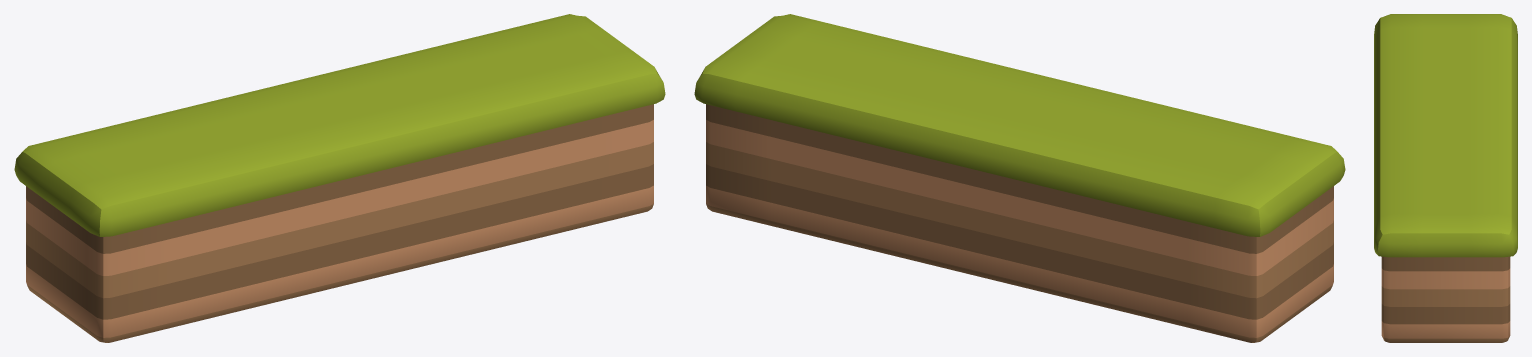
Rendered from Cube_Grass_1x1End.fbx.
3 renders of one model, left to right at view 1: azimuth 30°, elevation 25°; view 2: azimuth 150°, elevation 25°; view 3: azimuth 270°, elevation 25°, orthographic. The views are drawn at different scales.
Parts seen in each view (by area): view 1: Cube_Grass_1x1End; view 2: Cube_Grass_1x1End; view 3: Cube_Grass_1x1End.
Part boxes in pixels (x1,y1,x2,y2): Cube_Grass_1x1End: (14,14,665,342); Cube_Grass_1x1End: (694,14,1345,342); Cube_Grass_1x1End: (1374,14,1517,342).
Bounding box in the file's own units: 823 × 200 × 223.
